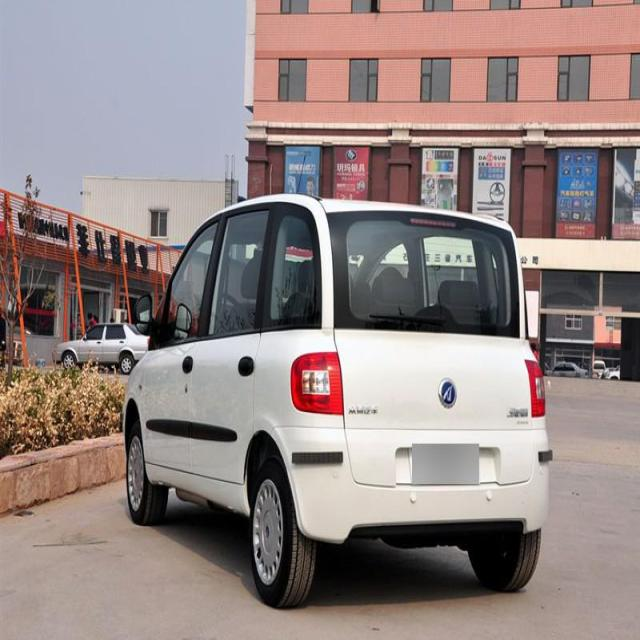back_glass: (331, 210, 522, 339)
back_left_side_light: (289, 346, 347, 420)
back_right_side_light: (520, 355, 550, 420)
door: (186, 202, 277, 477)
front_left_side_door: (143, 202, 228, 510)
front_left_side_mirror: (126, 292, 159, 354)
rear_bumper: (278, 420, 550, 535)
wheel: (247, 445, 320, 607), (465, 499, 543, 594), (122, 402, 162, 527)
